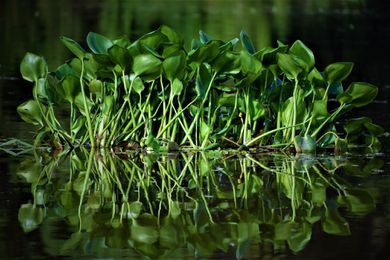water_hyacinth: (7, 26, 386, 165)
